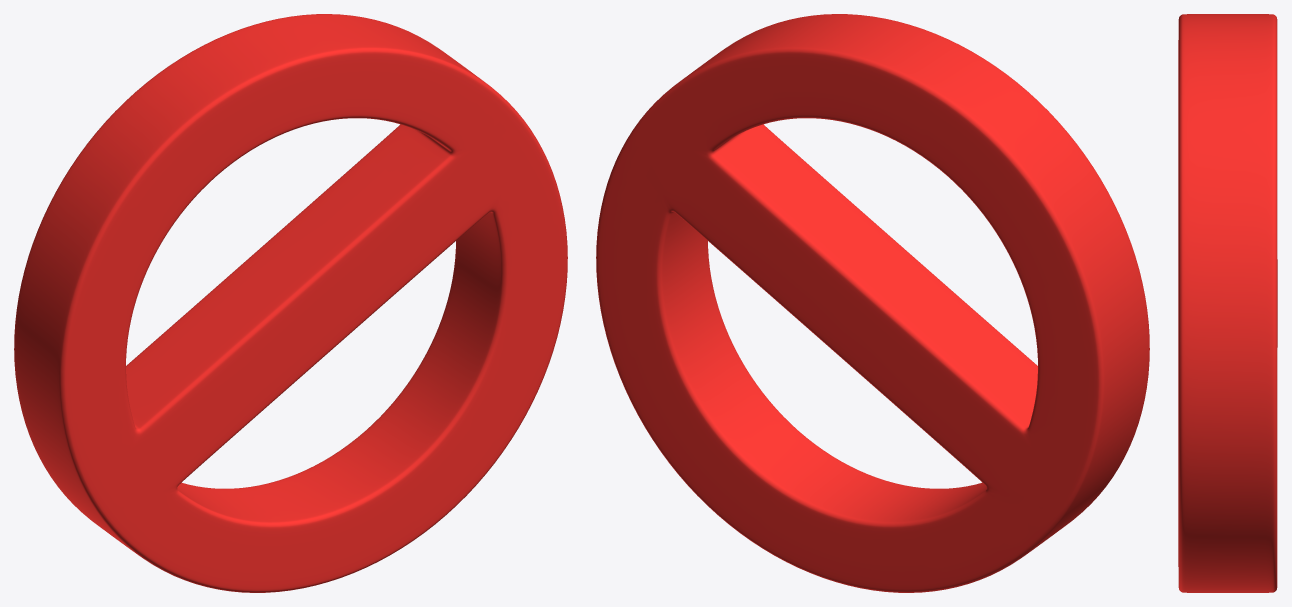
Rendered from block-animated-3d-icon-313307129518.glb.
3 renders of one model, left to right at view 1: azimuth 30°, elevation 25°; view 2: azimuth 150°, elevation 25°; view 3: azimuth 270°, elevation 25°, orthographic.
Parts seen in each view (by area): view 1: Block; view 2: Block; view 3: Block.
Part boxes in pixels (box(x1,y1,x2,y2)): Block: box(14, 14, 567, 592); Block: box(596, 14, 1149, 592); Block: box(1178, 14, 1277, 592).
Bounding box in the file's own units: 1.99 × 1.99 × 0.3397.
